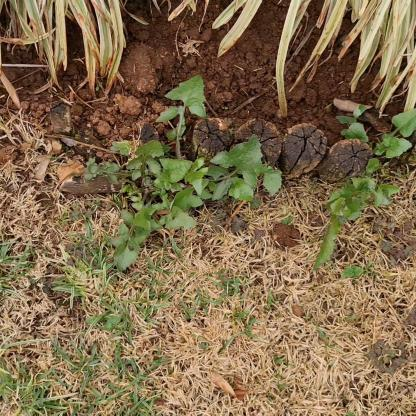Weeds: (82, 74, 282, 270), (312, 102, 415, 273)
